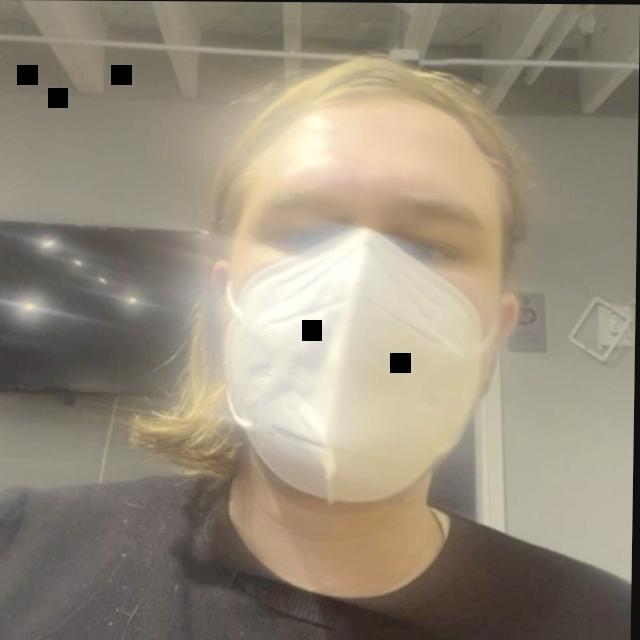Mask: (153, 41, 584, 613)
